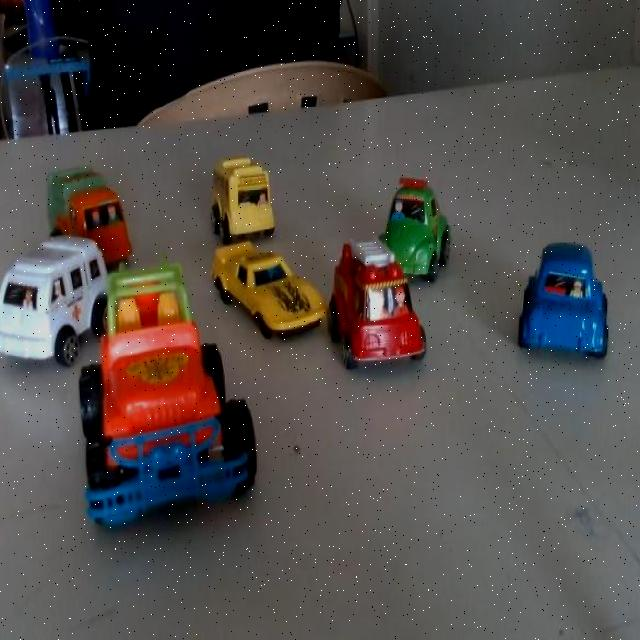car: (82, 321, 261, 544), (513, 236, 617, 372), (335, 240, 428, 380), (210, 237, 324, 349), (0, 247, 96, 360), (48, 161, 132, 262), (381, 181, 454, 281), (217, 146, 283, 242)
